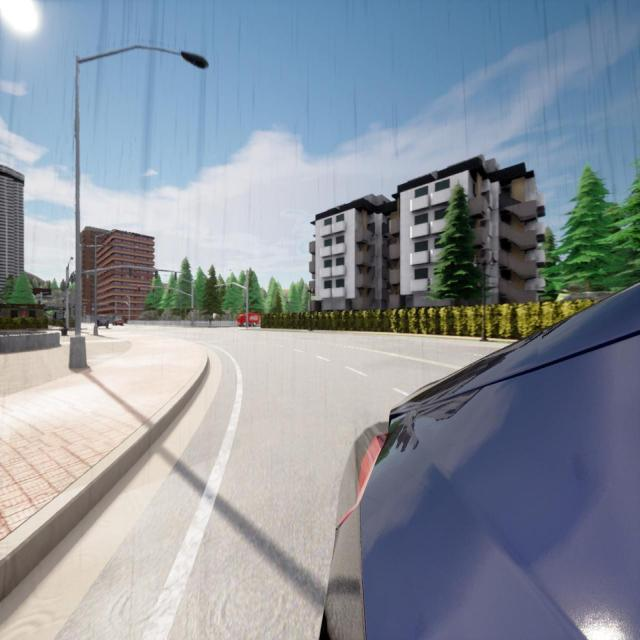Vehicle: (326, 284, 640, 638), (237, 313, 259, 326), (97, 315, 108, 328), (112, 316, 123, 325)
traffic_light: (174, 272, 177, 280), (129, 268, 132, 275), (156, 271, 158, 279), (244, 302, 246, 308), (138, 286, 140, 291), (192, 307, 194, 312), (222, 286, 224, 291), (152, 287, 154, 292), (168, 288, 170, 293), (231, 284, 232, 290), (216, 287, 217, 292)
